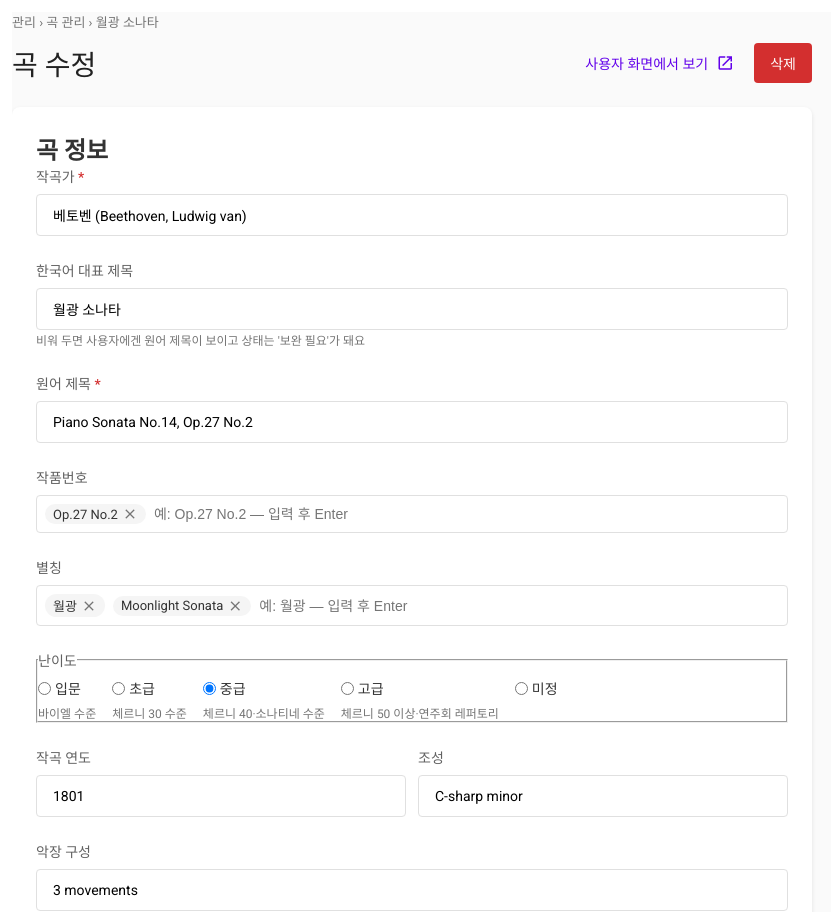
Test: WorkFormPage — 곡 정보 입력 › 작곡가 입력칸에 타이핑하면 목록이 좁혀지고, 맨 아래에 '새 작곡가 등록'(새 탭)
Expected: the field labelled "원어 제목" holds "Piano Sonata No.14, Op.27 No.2", [36, 401, 788, 443]
Step 1. Replace the text in the field labelled "작곡가" with "쇼" → x=412, y=215, box [36, 194, 788, 236]
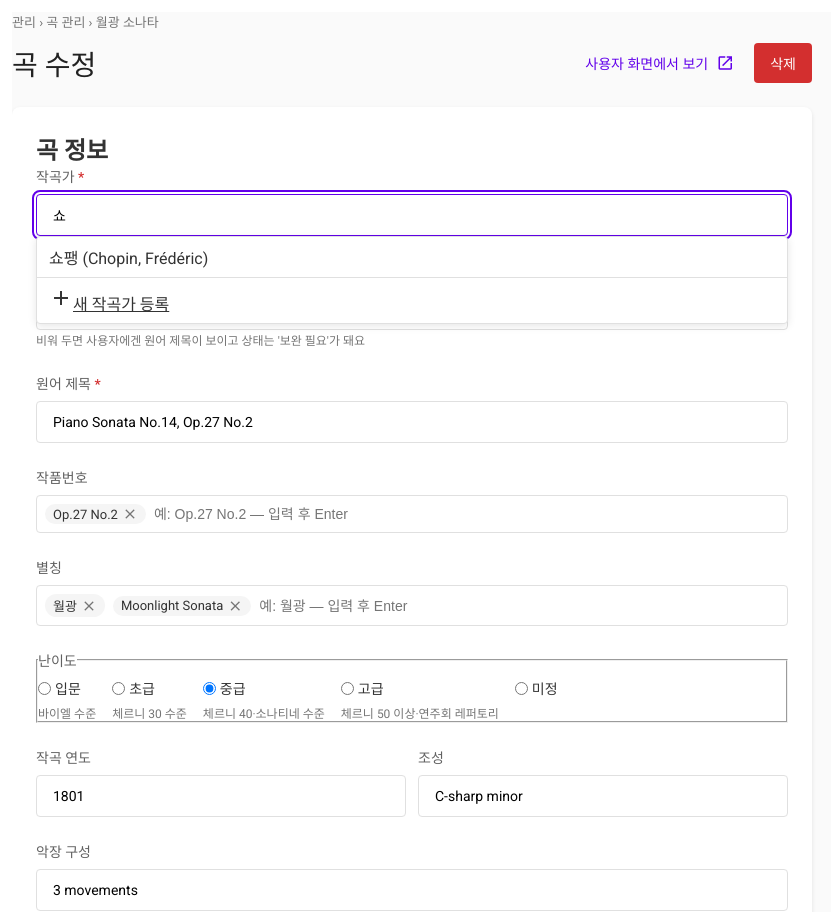
Expected: the option "쇼팽 (Chopin, Frédéric)" is shown
Expected: the option "베토벤 (Beethoven, Ludwig van)" is gone
Step 2. Click the option "쇼팽 (Chopin, Frédéric)" → x=129, y=258, box [49, 249, 208, 268]
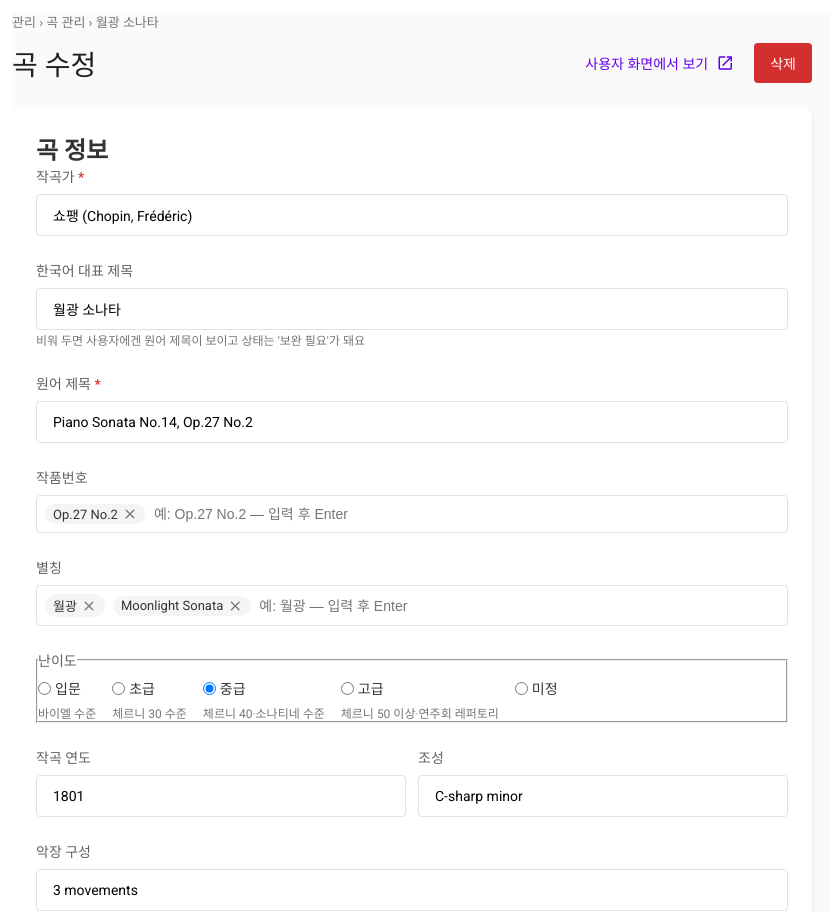
Expected: the field labelled "작곡가" holds "쇼팽 (Chopin, Frédéric)", [36, 194, 788, 236]
